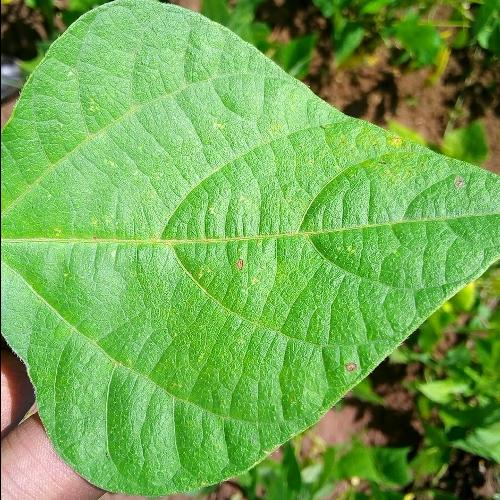hawar: (226, 248, 248, 276), (338, 358, 359, 376)
mozaik: (294, 128, 432, 194)
sehat: (61, 282, 218, 450)
